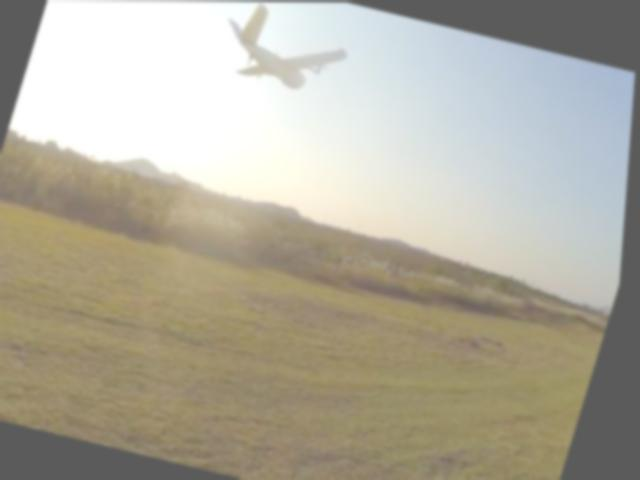uav: (195, 1, 371, 120)
